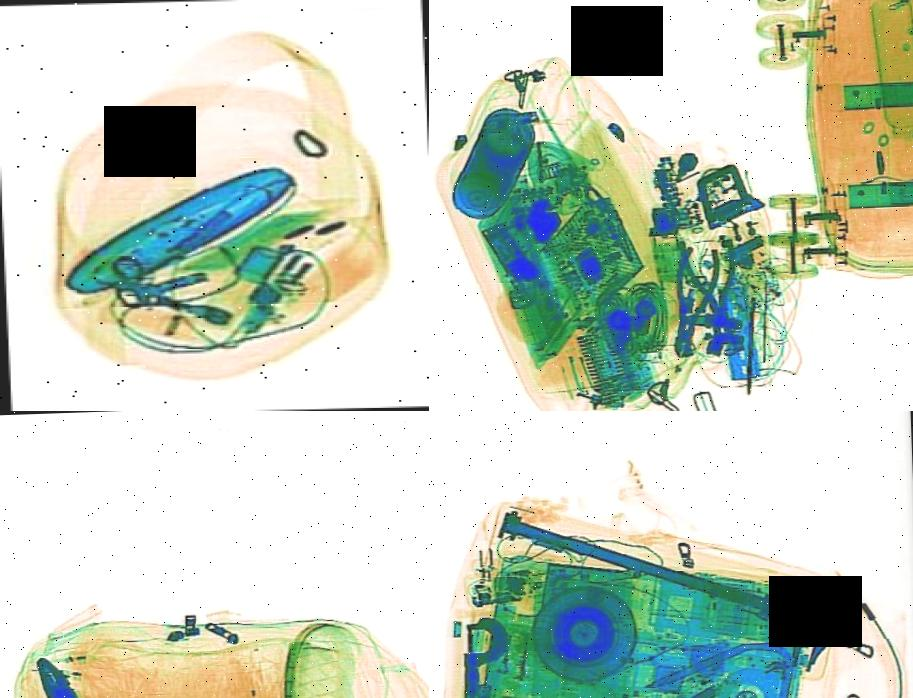Pliers: (651, 242, 734, 358), (676, 238, 752, 354), (23, 643, 139, 698)
Scissors: (106, 250, 214, 313)
